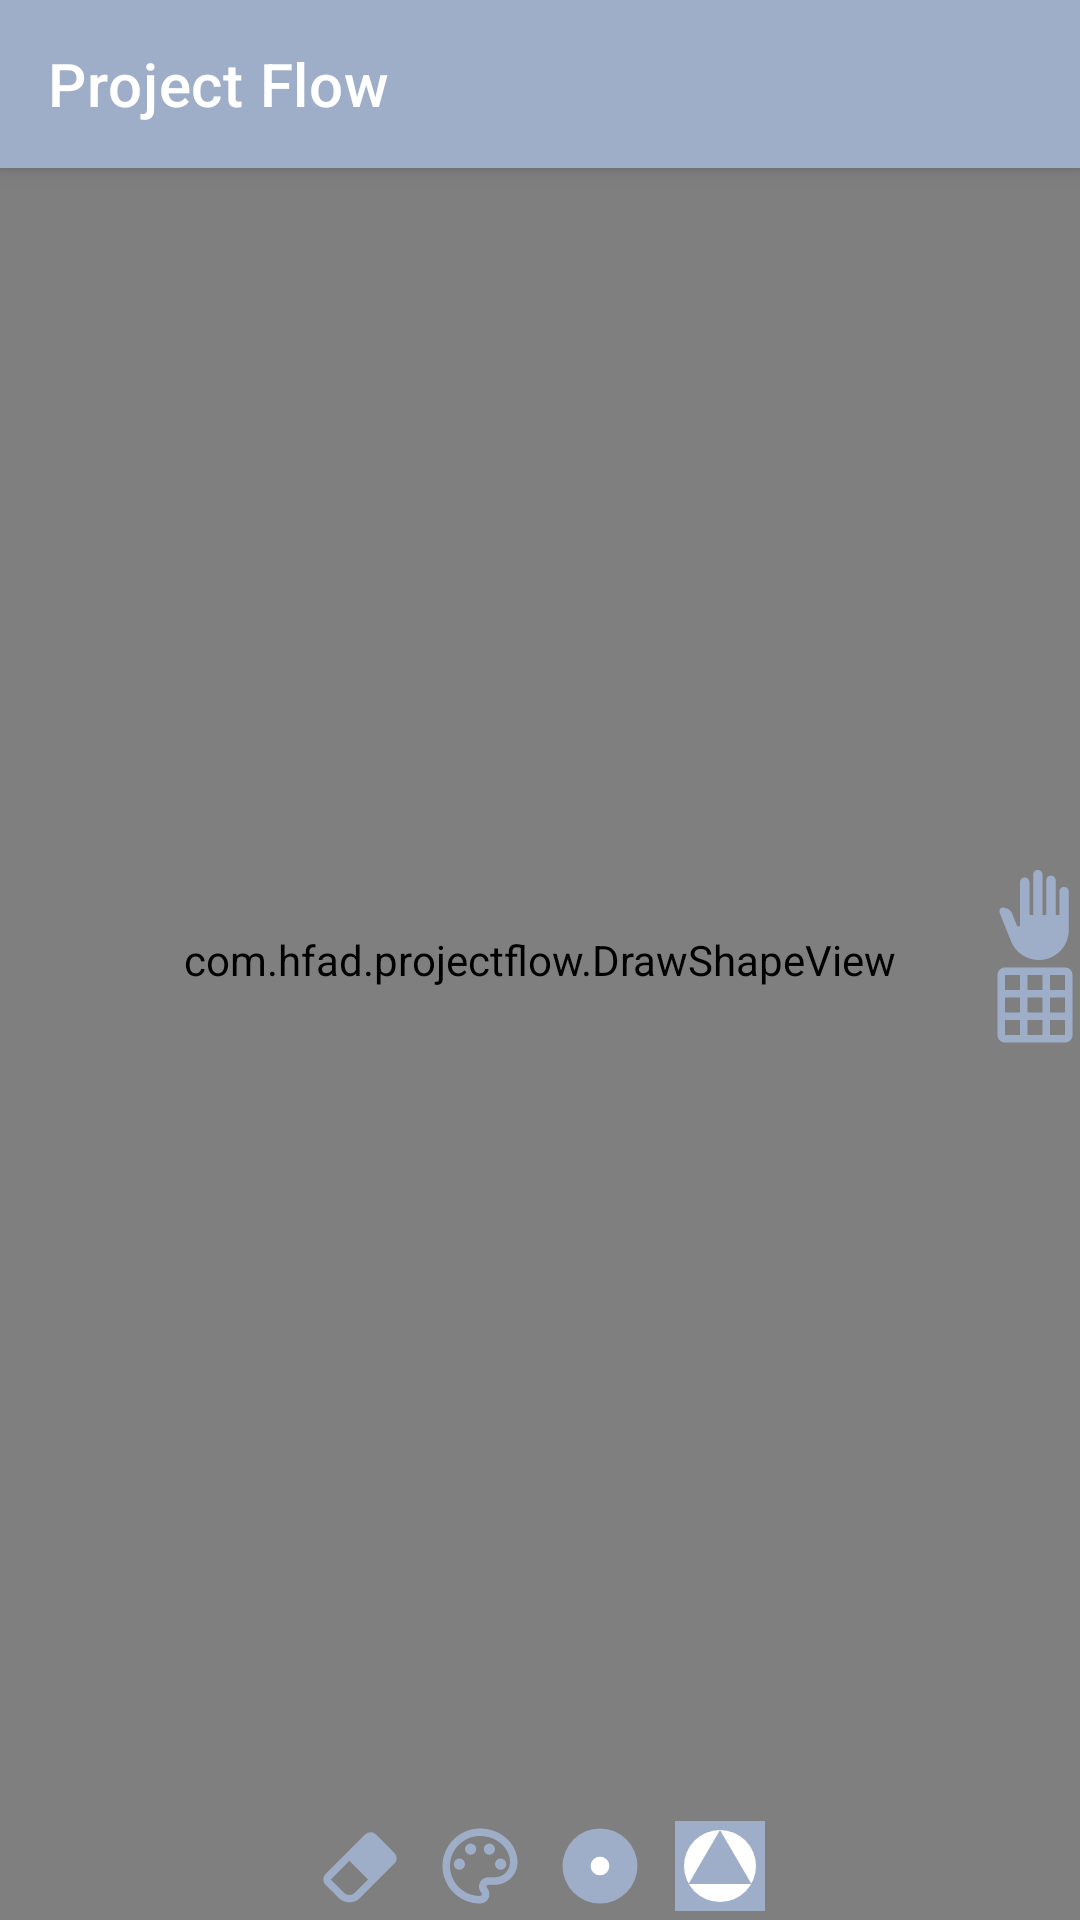

Where icons sit on this 1080x1920 app screen, as (x1, y1, x2, y2):
eraser: (323, 1832, 397, 1903)
shapes: (675, 1821, 765, 1911)
